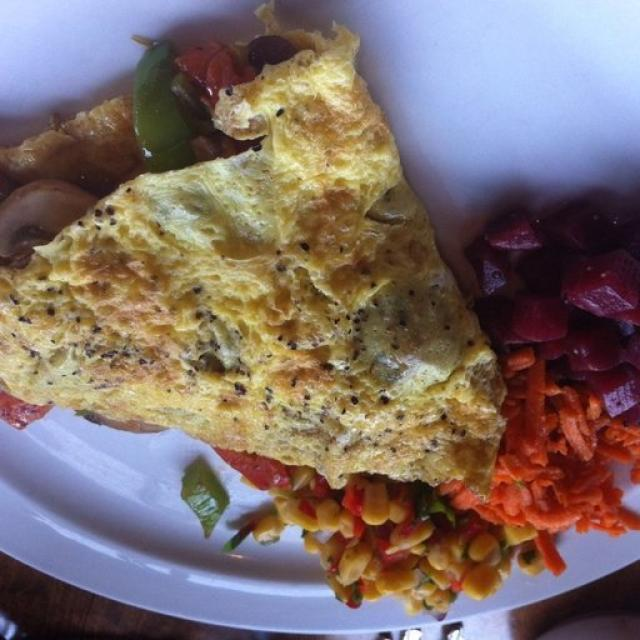telur_ayam_dadar: (0, 4, 509, 502)
